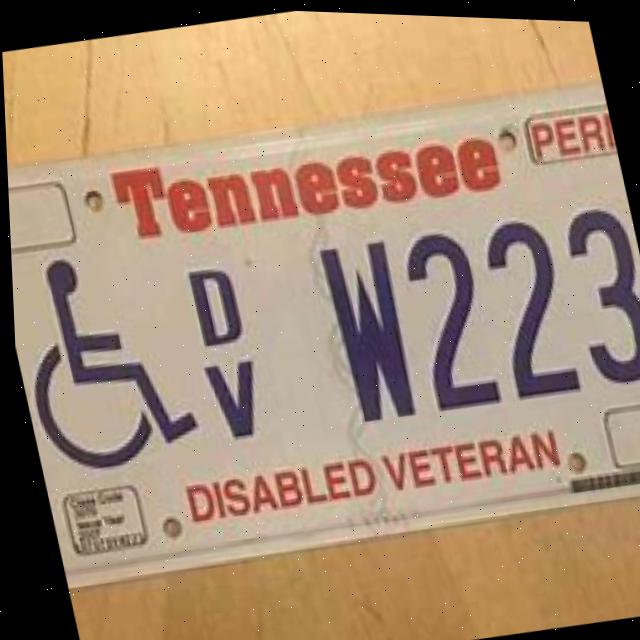symbol_of_access: (8, 238, 204, 485)
